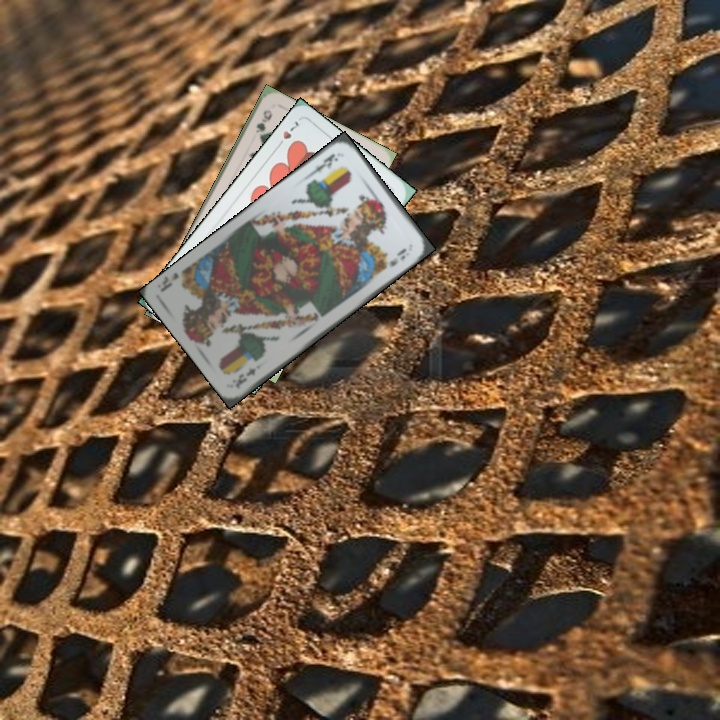EK: (306, 149, 341, 178), (231, 364, 258, 392)
G9: (252, 105, 275, 136)
H7: (272, 117, 301, 151)
